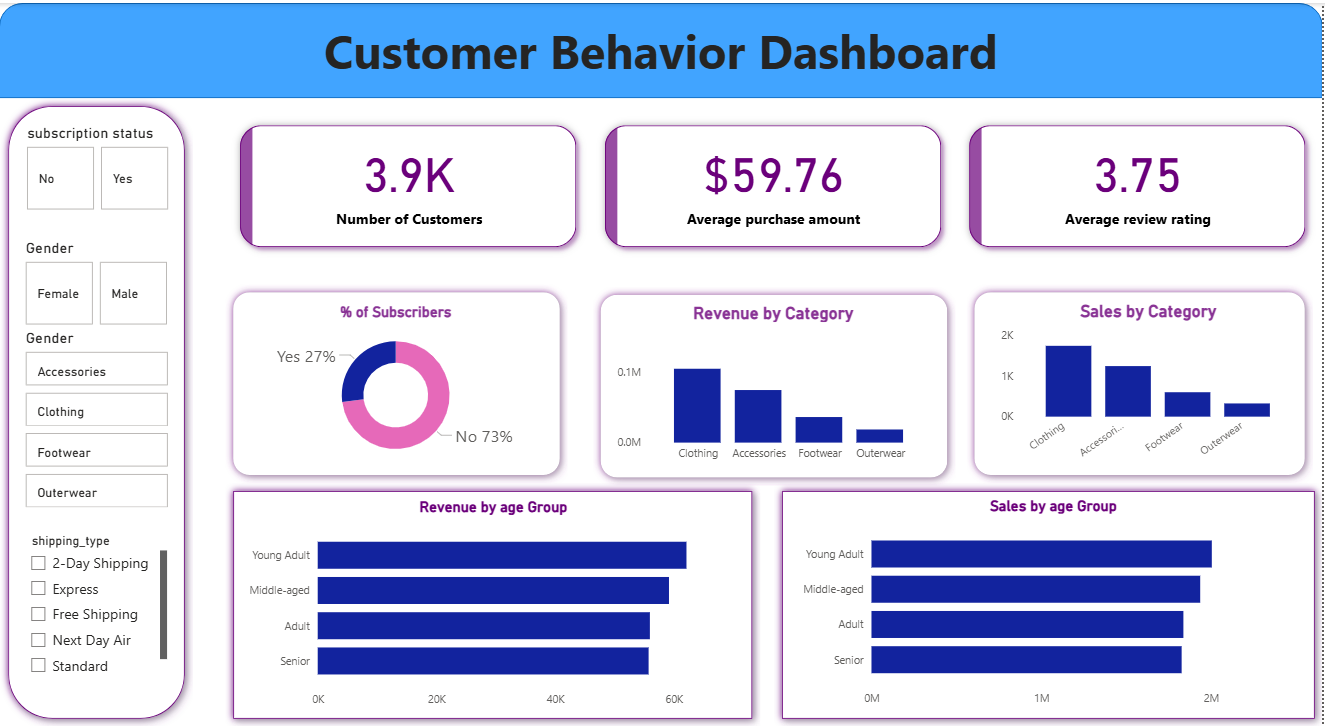

Layout of this report page (visuals, bound fields, positions):
{"tool":"powerbi","page":{"name":"Page 1","canvas":[1500,820],"ordinal":0},"visuals":[{"type":"cardVisual","fields":{"Data":["customer_behavior customer.Number of Customers","customer_behavior customer.Average purchase amount","customer_behavior customer.Average review rating"]},"box":[256.4,121.8,1243.9,172.8],"z":0},{"type":"shape","box":[0,0,1500.3,107.8],"z":1000},{"type":"textbox","box":[0,12.7,1500.3,95.2],"z":2000},{"type":"shape","box":[256.4,318.8,388.2,225.3],"z":3000},{"type":"donutChart","title":"% of Subscribers","fields":{"Category":["customer_behavior customer.subscription_status"],"Y":["CountNonNull(customer_behavior customer.customer_id)"]},"box":[273.4,340,352.8,188.4],"z":4000},{"type":"shape","box":[672.9,321.6,410.9,225.3],"z":5000},{"type":"shape","box":[1096.6,318.8,392.4,225.3],"z":6000},{"type":"clusteredColumnChart","title":"Revenue by Category","fields":{"Y":["Sum(customer_behavior customer.purchase_amount)"],"Category":["customer_behavior customer.category"]},"box":[695.6,340,364.1,188.4],"z":7000},{"type":"clusteredColumnChart","title":"Sales by Category","fields":{"Y":["CountNonNull(customer_behavior customer.customer_id)"],"Category":["customer_behavior customer.category"]},"box":[1130.6,338.6,344.3,188.4],"z":8000},{"type":"shape","box":[1.4,107.7,218.2,712.6],"z":9000},{"type":"advancedSlicerVisual","title":"subscription status","fields":{"Values":["customer_behavior customer.subscription_status"]},"box":[26.9,137.4,170,102],"z":10000},{"type":"advancedSlicerVisual","title":"Gender","fields":{"Values":["customer_behavior customer.gender"]},"box":[25.5,267.8,170,102],"z":11000},{"type":"advancedSlicerVisual","title":"Gender","fields":{"Values":["customer_behavior customer.category"]},"box":[25.5,369.8,171.4,208.3],"z":12000},{"type":"slicer","fields":{"Values":["customer_behavior customer.shipping_type"]},"box":[24.1,596.4,171.4,175.7],"z":13000},{"type":"shape","box":[256.4,544,606.4,276.3],"z":14000},{"type":"clusteredBarChart","title":"Revenue by age Group","fields":{"Category":["customer_behavior customer.age_group"],"Y":["Sum(customer_behavior customer.purchase_amount)"]},"box":[273.4,561,573.8,246.5],"z":15000},{"type":"shape","box":[878.4,544,621.9,276.3],"z":16000},{"type":"clusteredBarChart","title":"Sales by age Group","fields":{"Category":["customer_behavior customer.age_group"],"Y":["Sum(customer_behavior customer.customer_id)"]},"box":[901,559.6,587.9,246.5],"z":17000}]}

Visuals, with their boxes in screenshot pixels (x1, y1, x2, y2), scaled from the page's 1500x820 canvas onto the 1325x726 screenshot:
cardVisual - customer_behavior customer.Number of Customers x customer_behavior customer.Average purchase amount: x1=226 y1=108 x2=1324 y2=261
shape: x1=0 y1=0 x2=1324 y2=95
textbox: x1=0 y1=11 x2=1324 y2=96
shape: x1=226 y1=282 x2=569 y2=482
"% of Subscribers" donutChart: x1=242 y1=301 x2=553 y2=468
shape: x1=594 y1=285 x2=957 y2=484
shape: x1=969 y1=282 x2=1315 y2=482
"Revenue by Category" clusteredColumnChart: x1=614 y1=301 x2=936 y2=468
"Sales by Category" clusteredColumnChart: x1=999 y1=300 x2=1303 y2=467
shape: x1=1 y1=95 x2=194 y2=725
"subscription status" advancedSlicerVisual: x1=24 y1=122 x2=174 y2=212
"Gender" advancedSlicerVisual: x1=23 y1=237 x2=173 y2=327
"Gender" advancedSlicerVisual: x1=23 y1=327 x2=174 y2=512
slicer - customer_behavior customer.shipping_type: x1=21 y1=528 x2=173 y2=684
shape: x1=226 y1=482 x2=762 y2=725
"Revenue by age Group" clusteredBarChart: x1=242 y1=497 x2=748 y2=715
shape: x1=776 y1=482 x2=1324 y2=725
"Sales by age Group" clusteredBarChart: x1=796 y1=495 x2=1315 y2=714
